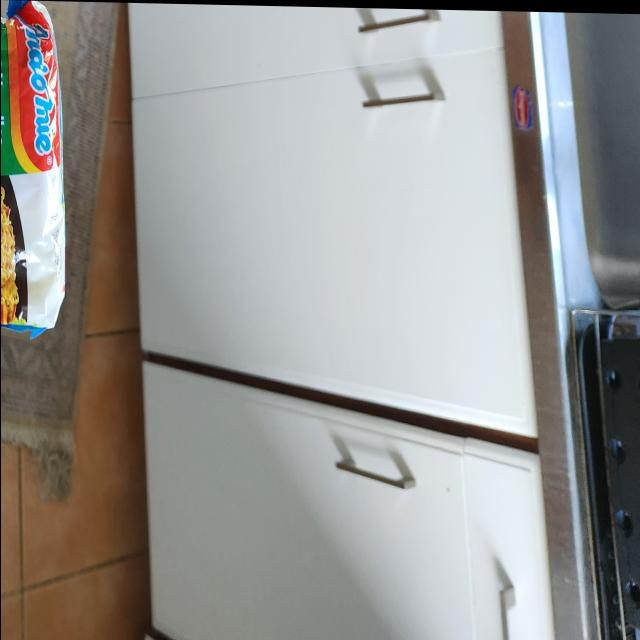noodles: (0, 6, 67, 337)
